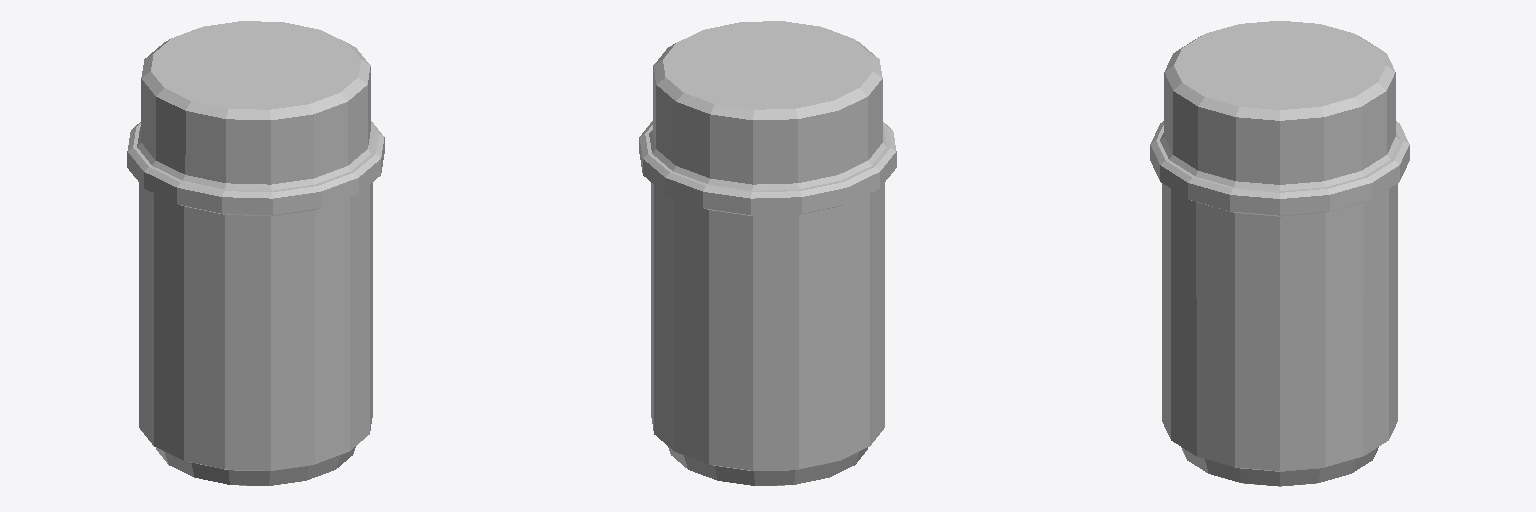
Rendered from vida.obj.
3 views of the same model, side by side, from view 1: azimuth 30°, elevation 25°; view 2: azimuth 150°, elevation 25°; view 3: azimuth 270°, elevation 25° (orthographic).
Visible parts, largest first — view 1: vida; view 2: vida; view 3: vida.
Boxes of the visible parts, box(x1,y1,x2,y2) form: vida: box(127, 21, 384, 485); vida: box(639, 21, 896, 485); vida: box(1150, 21, 1409, 486).
Bounding box in the file's own units: 0.0843 × 0.1368 × 0.0843.